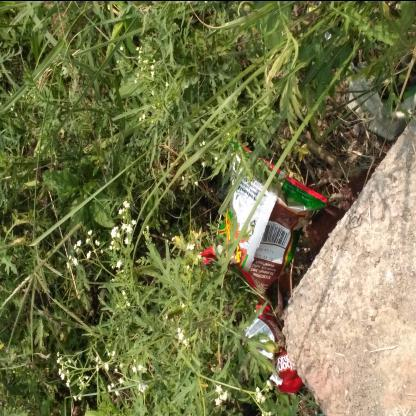plastik: (204, 143, 328, 395)
